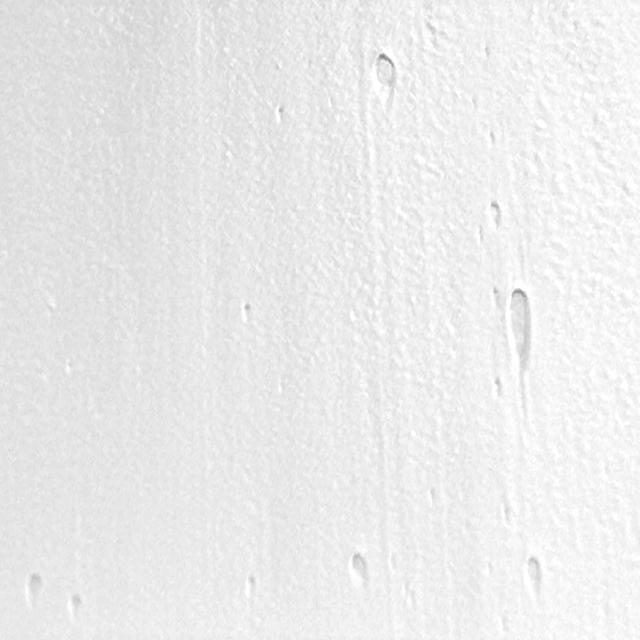pin holes: (506, 283, 535, 419), (371, 52, 400, 94), (521, 556, 545, 598), (347, 552, 371, 586), (21, 572, 45, 605), (64, 592, 86, 624), (484, 200, 504, 230), (240, 573, 260, 602), (236, 301, 256, 327), (486, 283, 503, 310), (488, 376, 505, 401), (274, 105, 288, 125), (480, 44, 494, 61), (484, 130, 495, 148)
